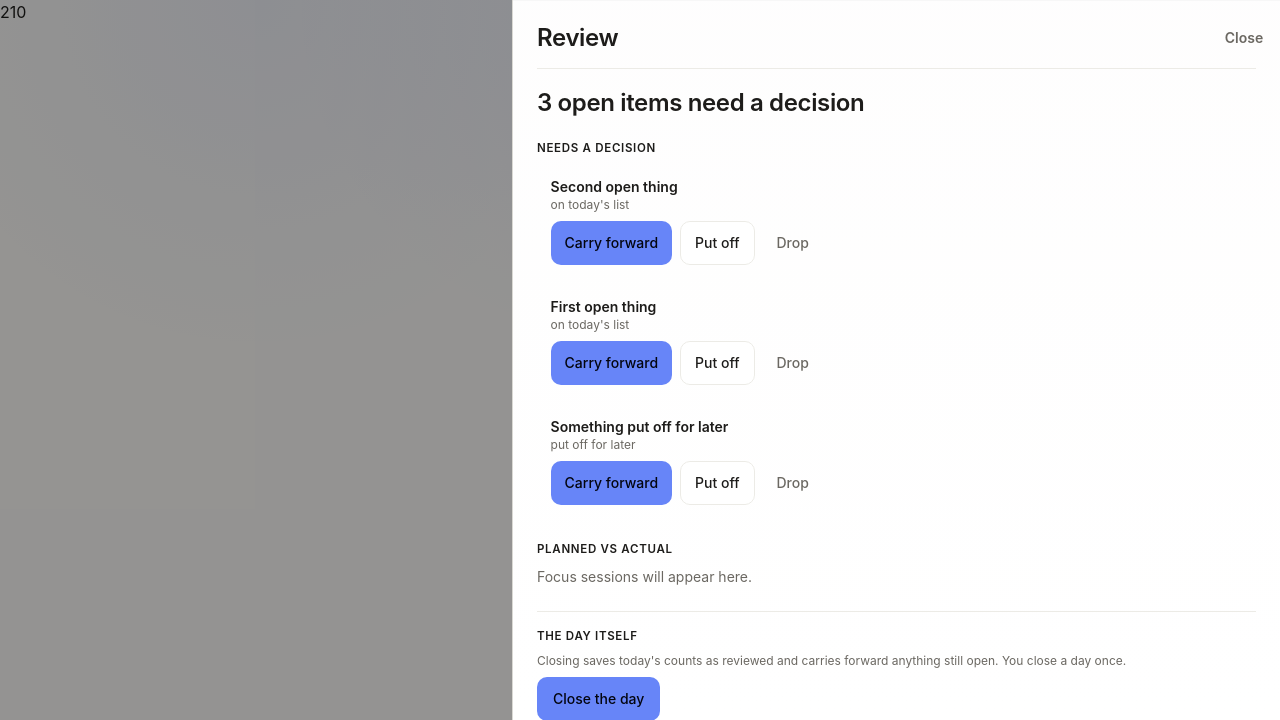
Test: ReviewSheet — the ported Review surface › counts down to zero and the headline says the day is ready
What coordinates should you click on to do the following:
click the button with test id "^review-sheet-drop-"
I would click on:
 (793, 244)
Its box is [762,222,823,266].
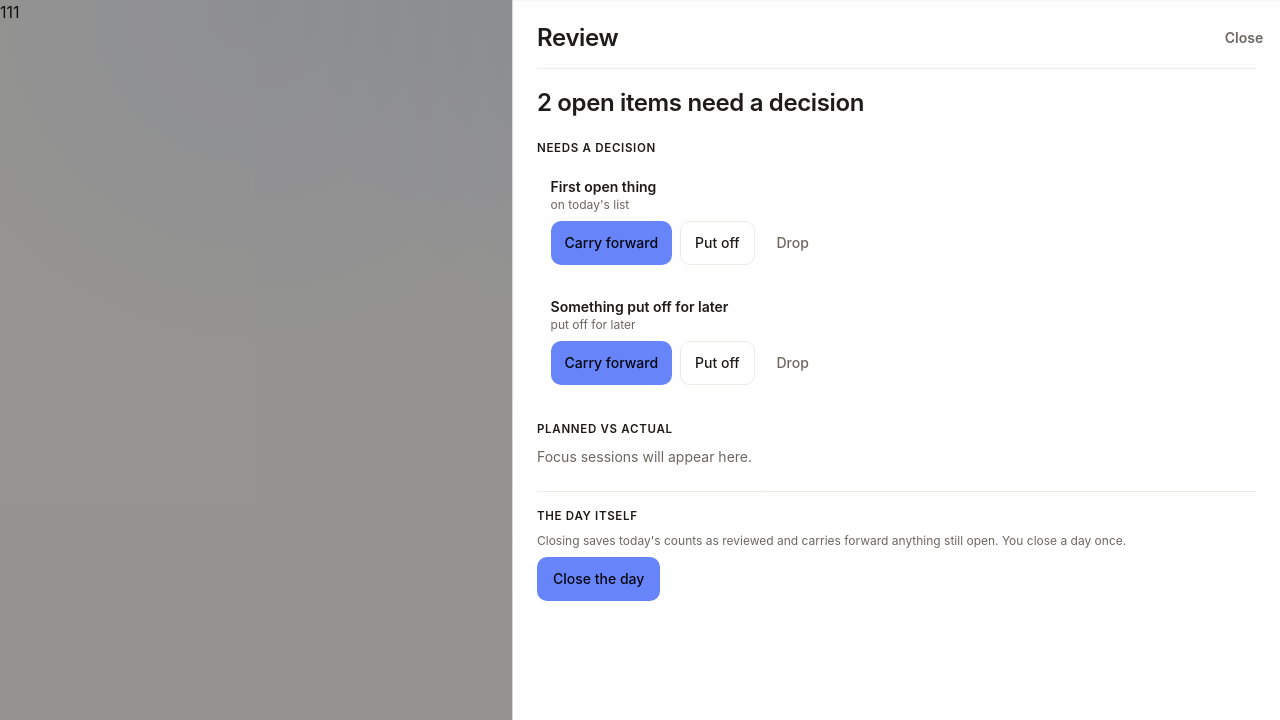
What coordinates should you click on to do the following:
click the button with test id "^review-sheet-drop-"
I would click on:
 (793, 244)
Its box is [762,222,823,266].
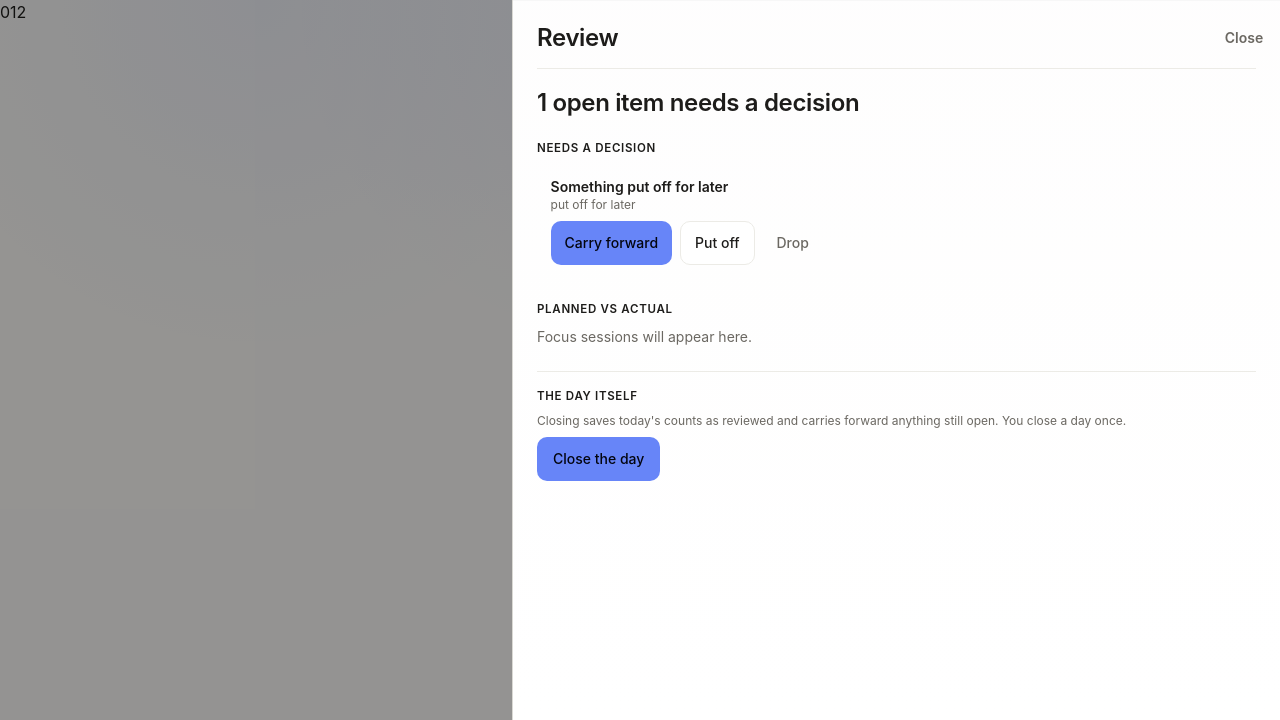
What coordinates should you click on to do the following:
click the button with test id "^review-sheet-drop-"
I would click on:
 (793, 244)
Its box is [762,222,823,266].
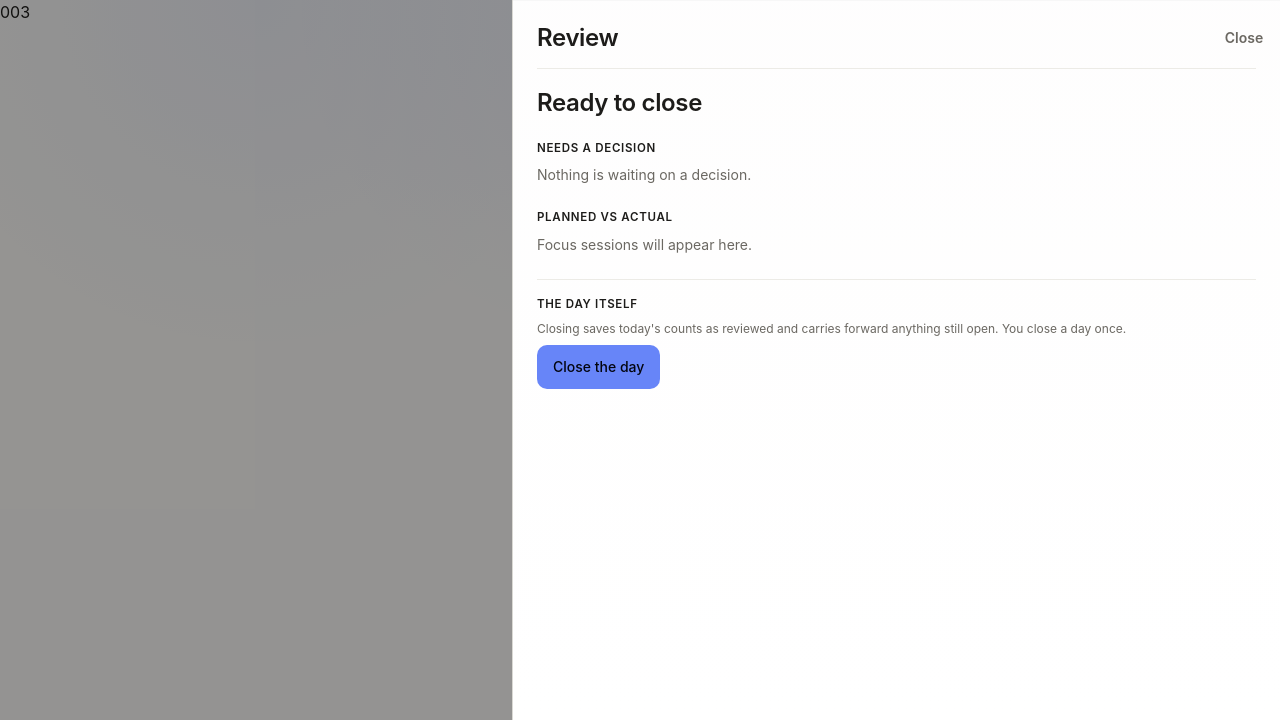
Expected: the heading with test id "review-sheet-headline" reads "Ready to close", [537,88,702,117]
Expected: the text "Nothing is waiting on a decision." is shown, [537,166,751,184]
